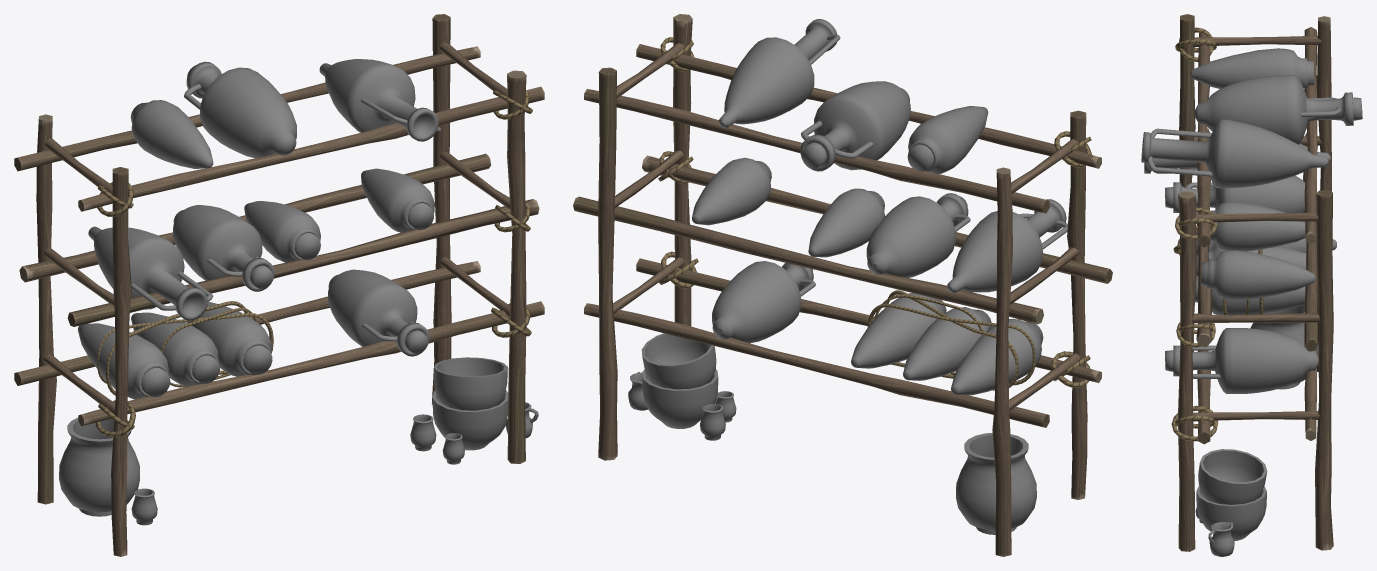
File: SM_shelf_pottery.fbx
The picture shows the model from 3 angles, left to right: view 1: azimuth 30°, elevation 25°; view 2: azimuth 150°, elevation 25°; view 3: azimuth 270°, elevation 25°; orthographic projection. The views are drawn at different scales.
Visible parts, largest first — view 1: Object32502; view 2: Object32502; view 3: Object32502.
Boxes of the visible parts, x1,y1,x2,y2 form: Object32502: [14, 14, 544, 556]; Object32502: [573, 14, 1112, 556]; Object32502: [1141, 14, 1362, 556].
Bounding box in the file's own units: 114 × 93.59 × 50.16.
